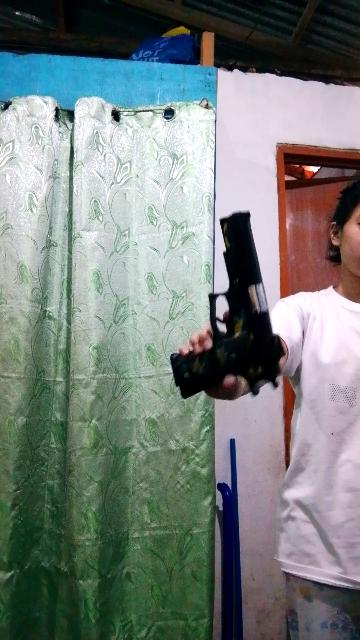pistol: (134, 214, 294, 400)
